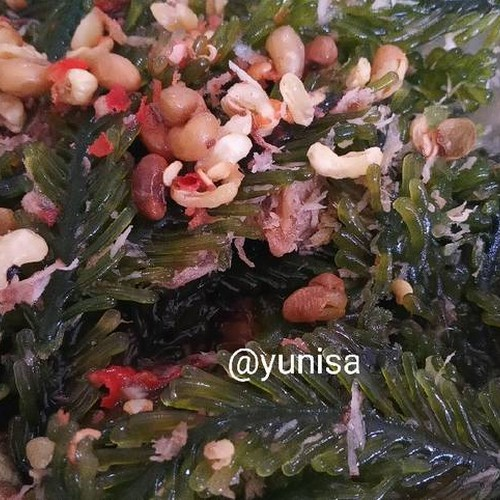bulung buni: (12, 35, 476, 485)
